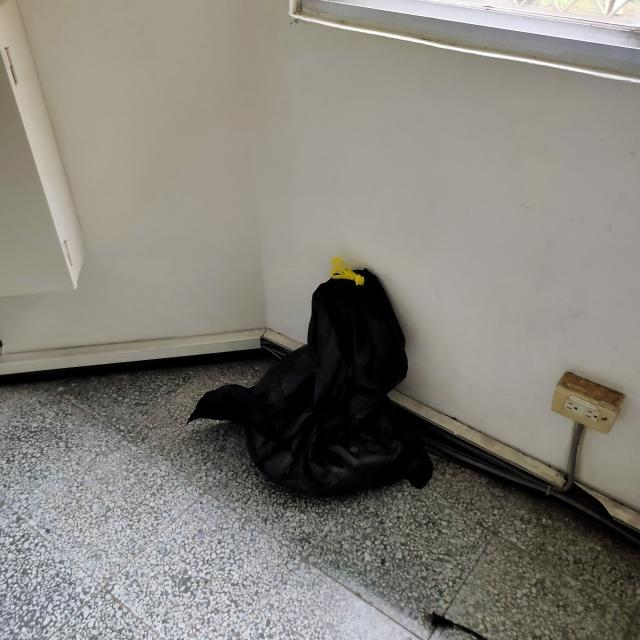Vinyl: (182, 246, 450, 521)
